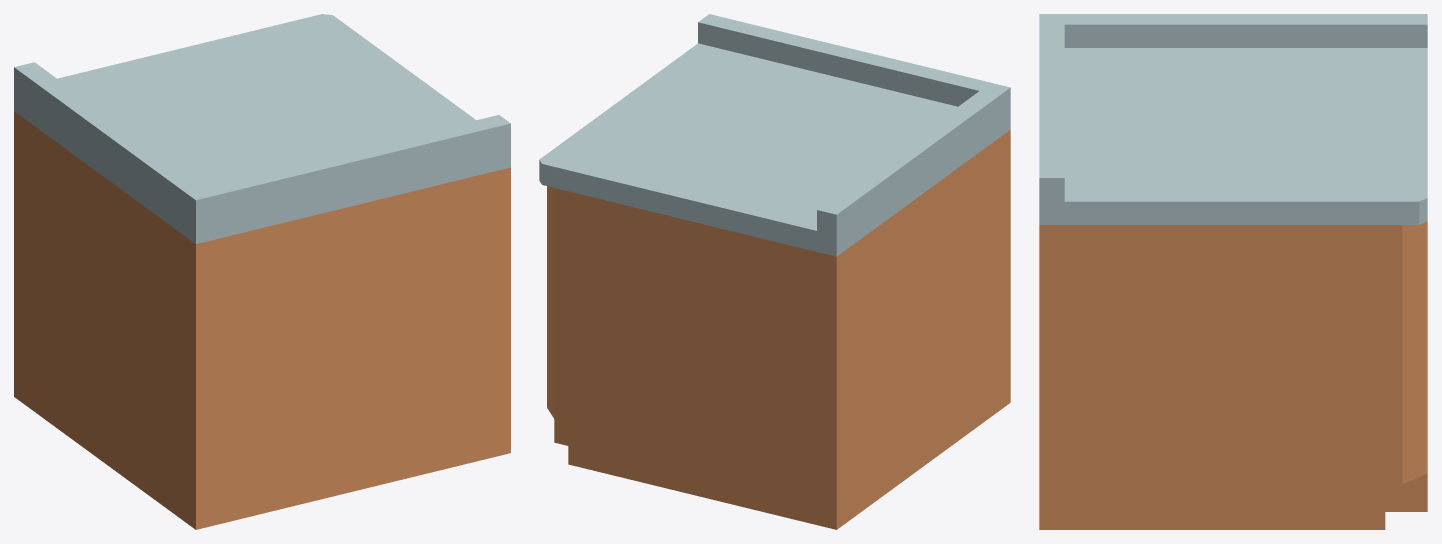
Rendered from KitchenCabinetCornerInner.glb.
3 renders of one model, left to right at view 1: azimuth 30°, elevation 25°; view 2: azimuth 150°, elevation 25°; view 3: azimuth 270°, elevation 25°, orthographic. The views are drawn at different scales.
Parts seen in each view (by area): view 1: KitchenCabinetCornerInner; view 2: KitchenCabinetCornerInner; view 3: KitchenCabinetCornerInner.
Part boxes in pixels (x1,y1,x2,y2): KitchenCabinetCornerInner: (14, 14, 510, 529); KitchenCabinetCornerInner: (539, 14, 1010, 529); KitchenCabinetCornerInner: (1039, 14, 1427, 529).
Bounding box in the file's own units: 1 × 1 × 1.
